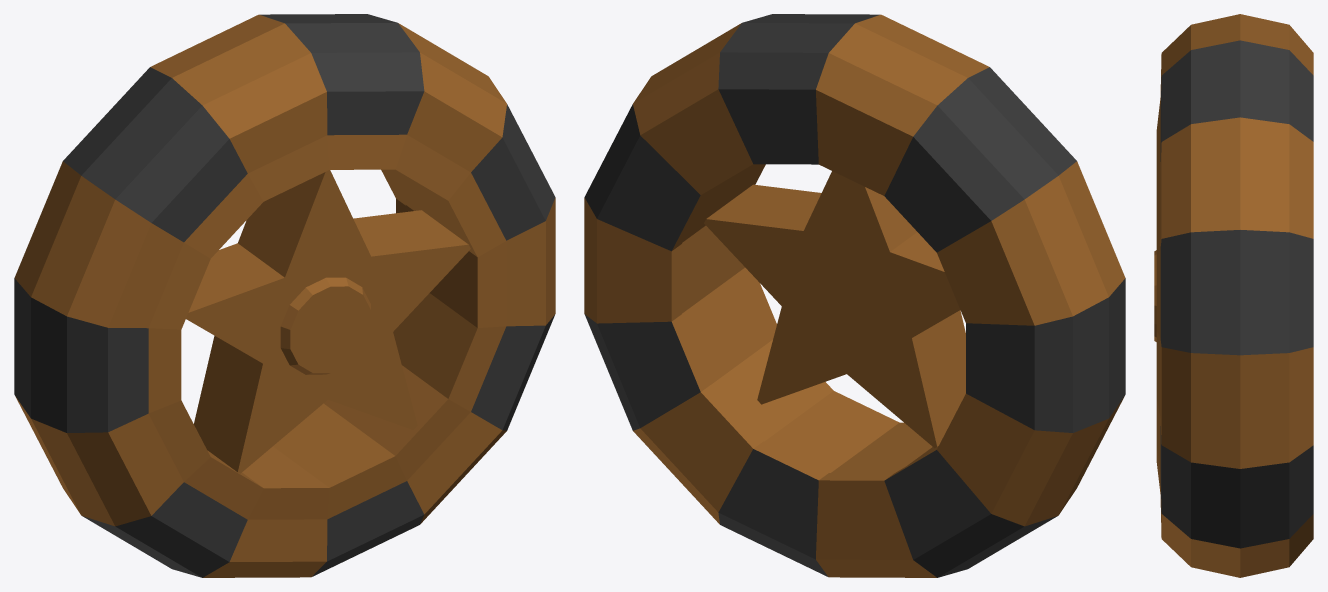
The model's file is wheel21.fbx.
3 renders of one model, left to right at view 1: azimuth 30°, elevation 25°; view 2: azimuth 150°, elevation 25°; view 3: azimuth 270°, elevation 25°, orthographic. The views are drawn at different scales.
Parts seen in each view (by area): view 1: lanot_wheel20_L; view 2: lanot_wheel20_L; view 3: lanot_wheel20_L.
Part boxes in pixels (left/top/right/bottom): lanot_wheel20_L: left=14, top=14, right=555, bottom=577; lanot_wheel20_L: left=584, top=14, right=1125, bottom=577; lanot_wheel20_L: left=1154, top=14, right=1313, bottom=577.
Bounding box in the file's own units: 152 × 156 × 44.07.
